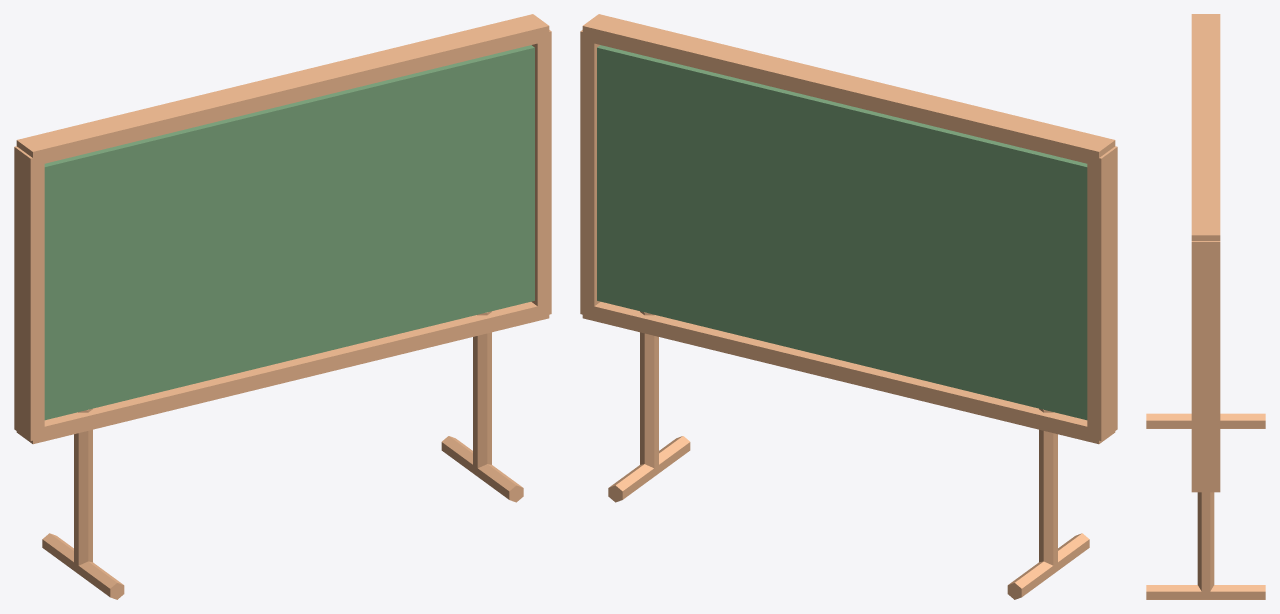
The picture shows the model from 3 angles, left to right: view 1: azimuth 30°, elevation 25°; view 2: azimuth 150°, elevation 25°; view 3: azimuth 270°, elevation 25°; orthographic projection. The views are drawn at different scales.
Parts seen in each view (by area): view 1: Board, Rail.001, Rail, Frame, Frame.001, Post.001, Post, Foot, Foot.001; view 2: Board, Rail.001, Rail, Frame, Frame.001, Post, Post.001, Foot.001, Foot; view 3: Frame.001, Rail.001, Post.001, Foot.001, Foot.
Boxes of the visible parts, bbox=[...] form: Board: bbox=[44, 45, 534, 420]; Rail.001: bbox=[16, 14, 549, 166]; Rail: bbox=[16, 302, 549, 444]; Frame: bbox=[14, 146, 44, 440]; Frame.001: bbox=[531, 30, 551, 317]; Post.001: bbox=[473, 311, 491, 471]; Post: bbox=[74, 408, 92, 565]; Foot: bbox=[42, 533, 124, 599]; Foot.001: bbox=[441, 436, 523, 502]; Board: bbox=[597, 45, 1087, 420]; Rail.001: bbox=[582, 14, 1115, 163]; Rail: bbox=[582, 302, 1115, 444]; Frame: bbox=[1087, 146, 1117, 440]; Frame.001: bbox=[580, 30, 600, 314]; Post: bbox=[1039, 408, 1057, 569]; Post.001: bbox=[640, 311, 658, 470]; Foot.001: bbox=[608, 436, 690, 502]; Foot: bbox=[1007, 533, 1089, 599]; Frame.001: bbox=[1191, 241, 1220, 489]; Rail.001: bbox=[1191, 14, 1220, 240]; Post.001: bbox=[1197, 492, 1214, 593]; Foot.001: bbox=[1146, 585, 1265, 599]; Foot: bbox=[1146, 413, 1265, 428].
Size of the model in its own units: 222 by 181 by 50.
